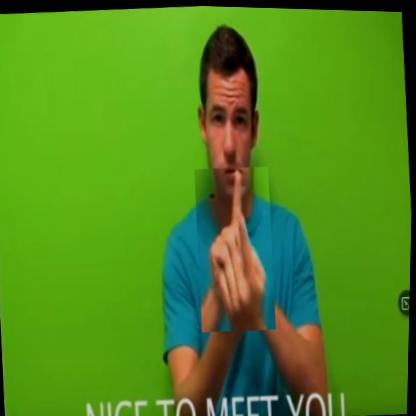NiceToMeetYou: (192, 163, 280, 333)
